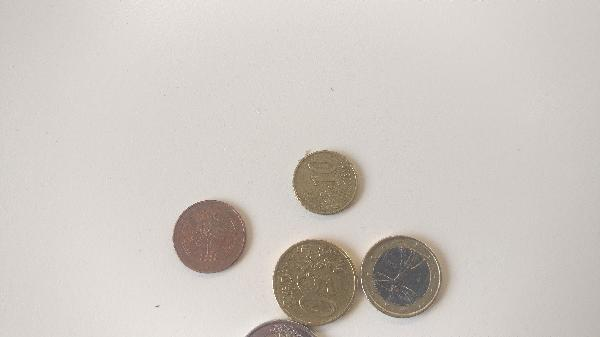Fifty Cent: (272, 238, 359, 324)
Five Cent: (170, 200, 247, 275)
One Euro: (361, 234, 442, 321)
Ten Cent: (289, 148, 362, 214)
